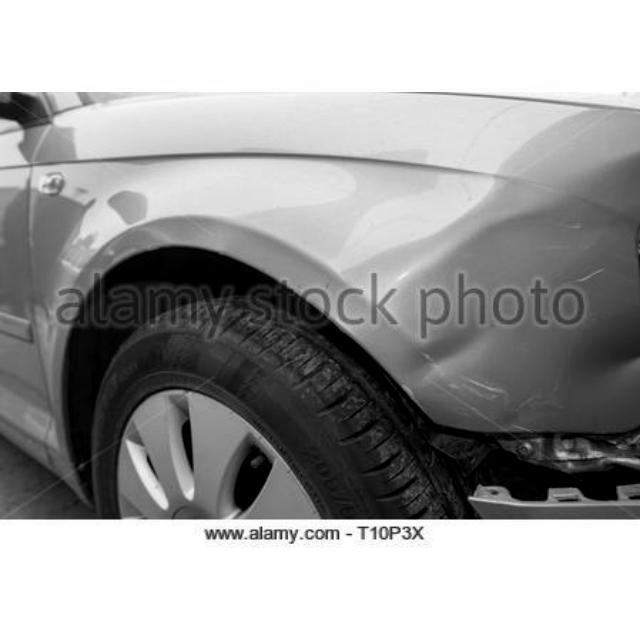fender-dent: (30, 165, 638, 464)
